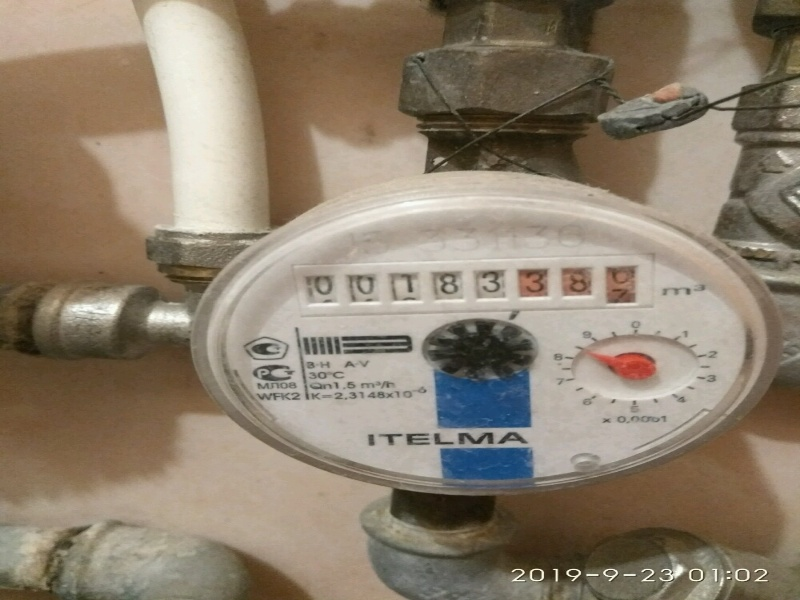meter: (301, 259, 647, 307)
